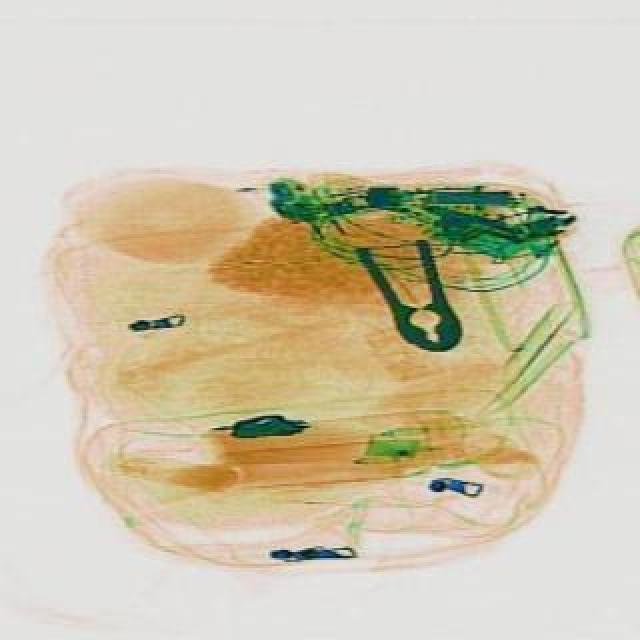wrench: (350, 224, 462, 364)
